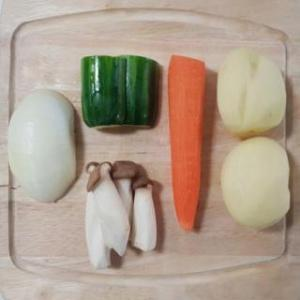carrot: (168, 55, 206, 231)
onion: (7, 87, 79, 205)
potato: (222, 137, 290, 231), (218, 45, 286, 138)
